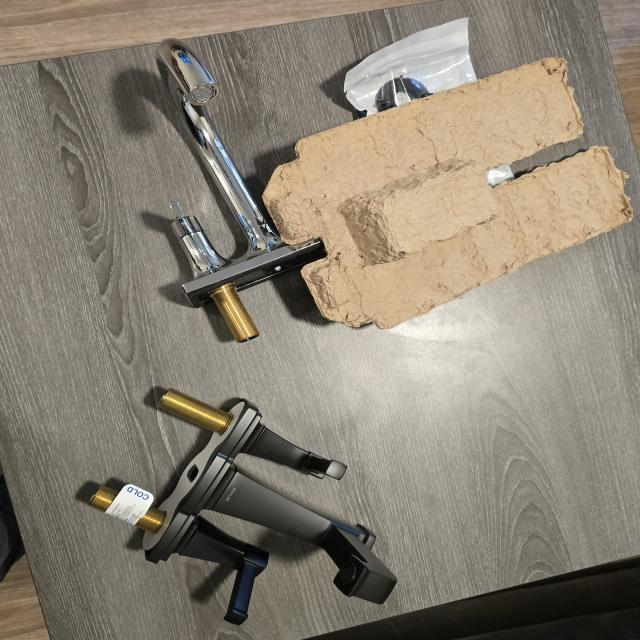10o: (156, 39, 324, 342)
13o: (344, 17, 477, 115)
9: (89, 389, 396, 624)
